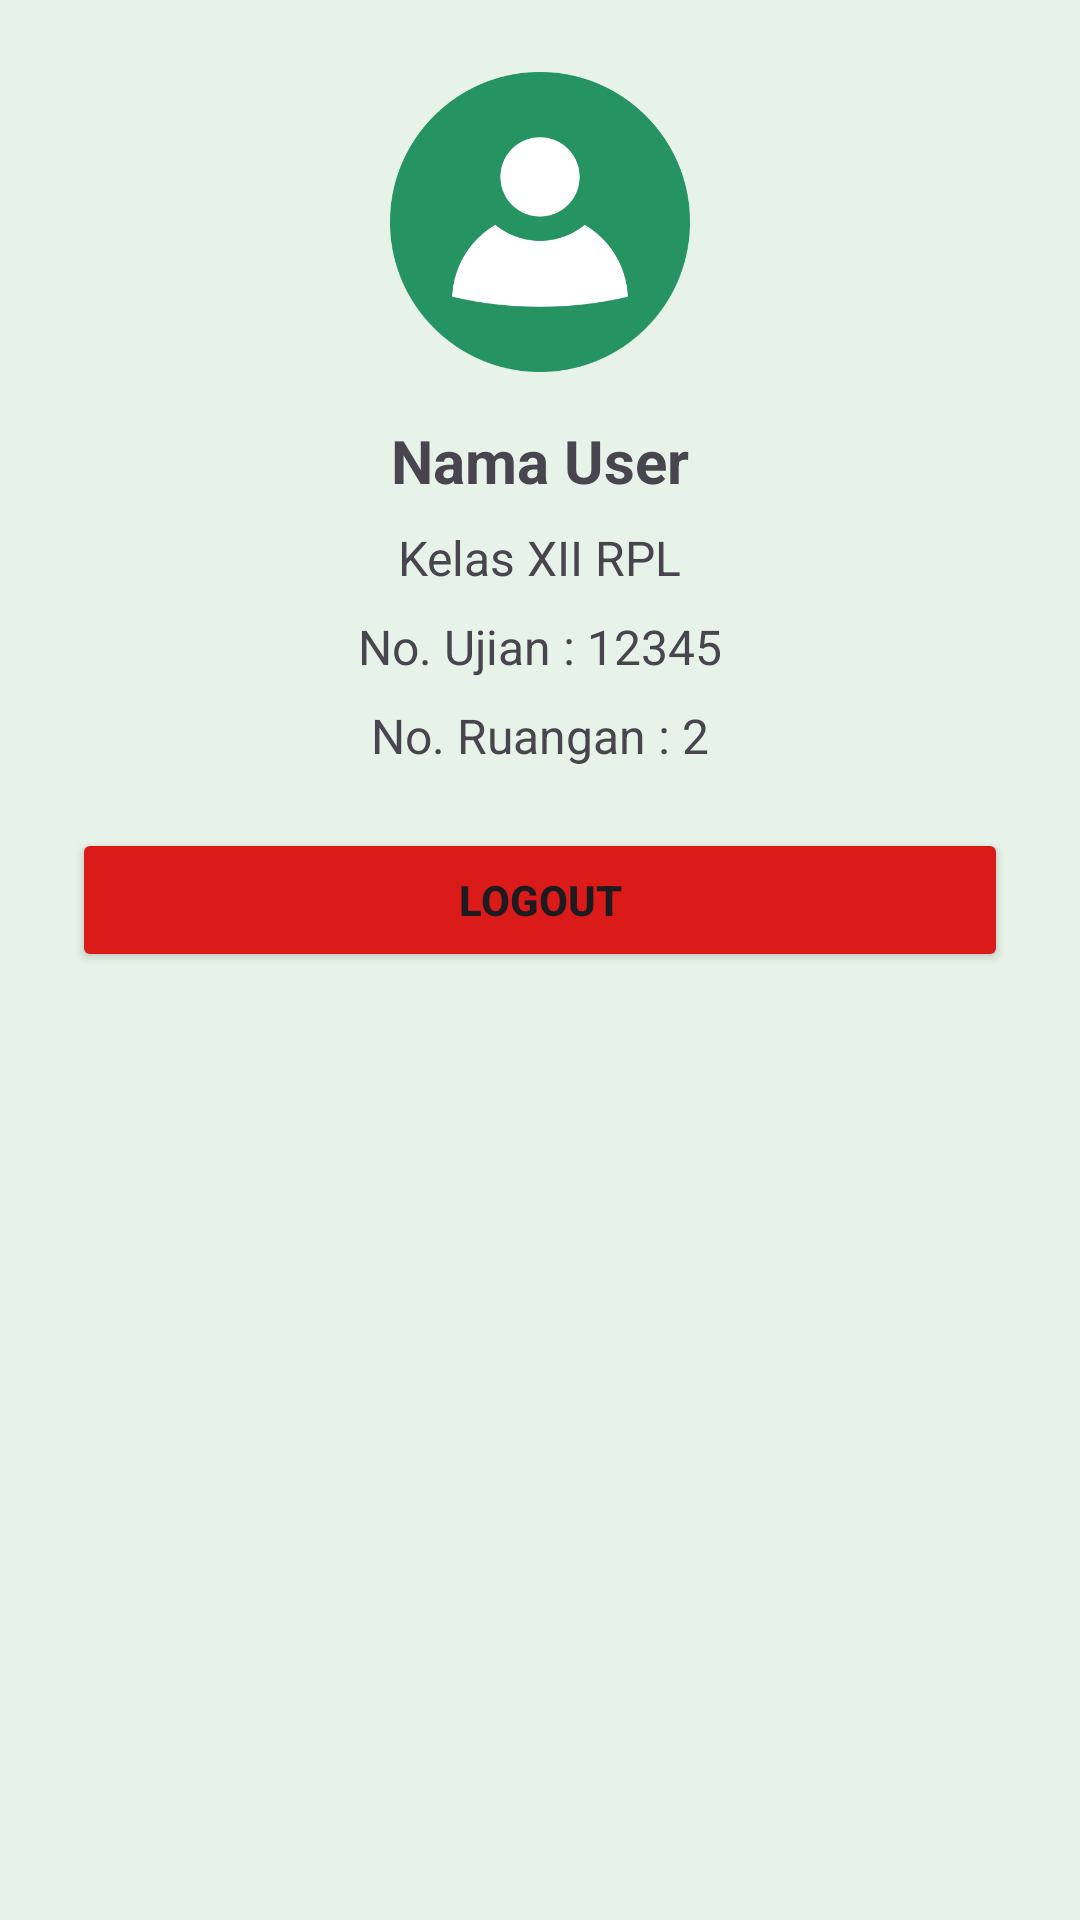

Point at icon controls on the screen. Image size 1080 x 1920, points as [x,y].
profile user: [540,222]
